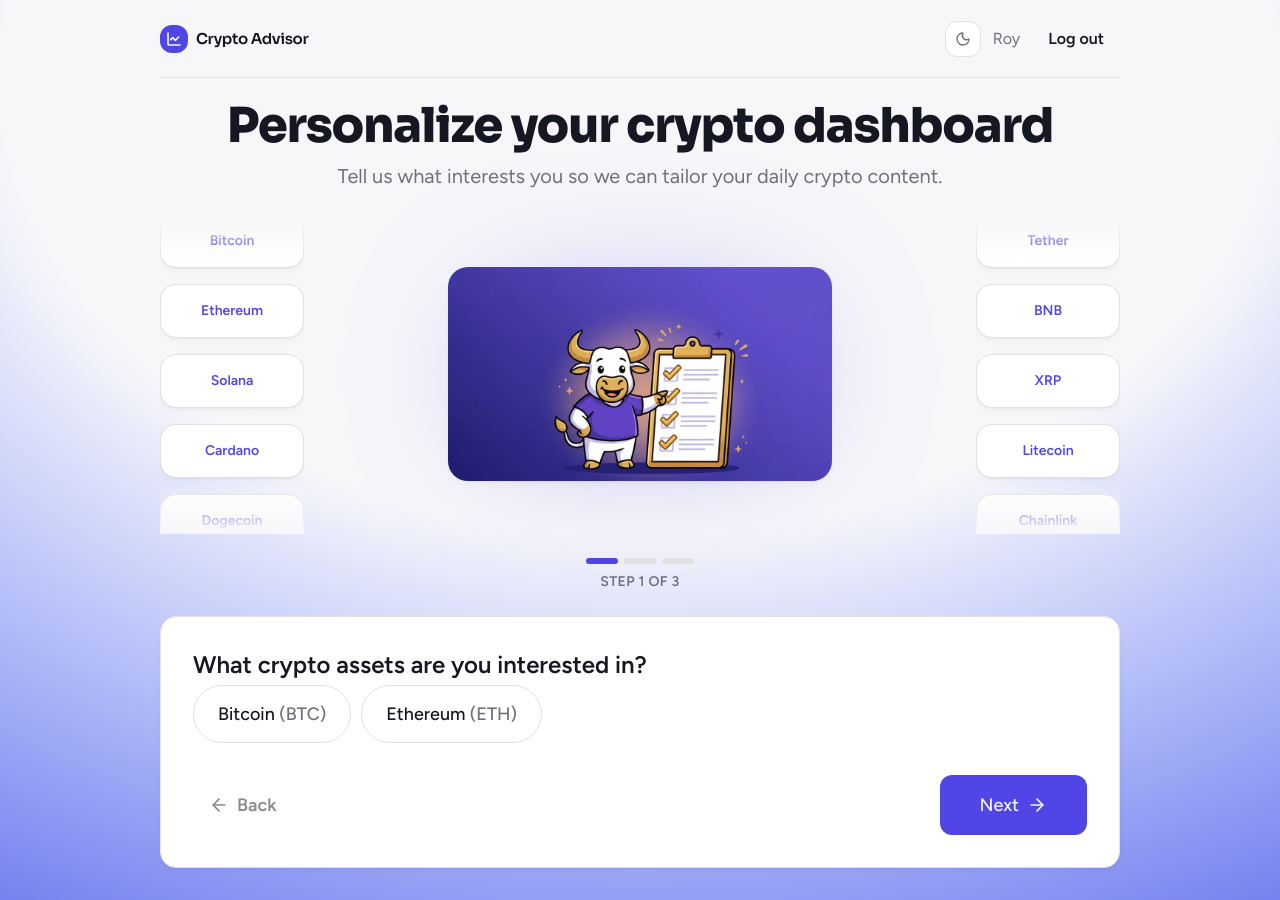
OnboardingPage › blocks advancing past step 1 with no asset selected
The image size is (1280, 900).
(page scrolled)
Step 1. Click the button "Next" → x=1013, y=805, box [940,775,1087,835]
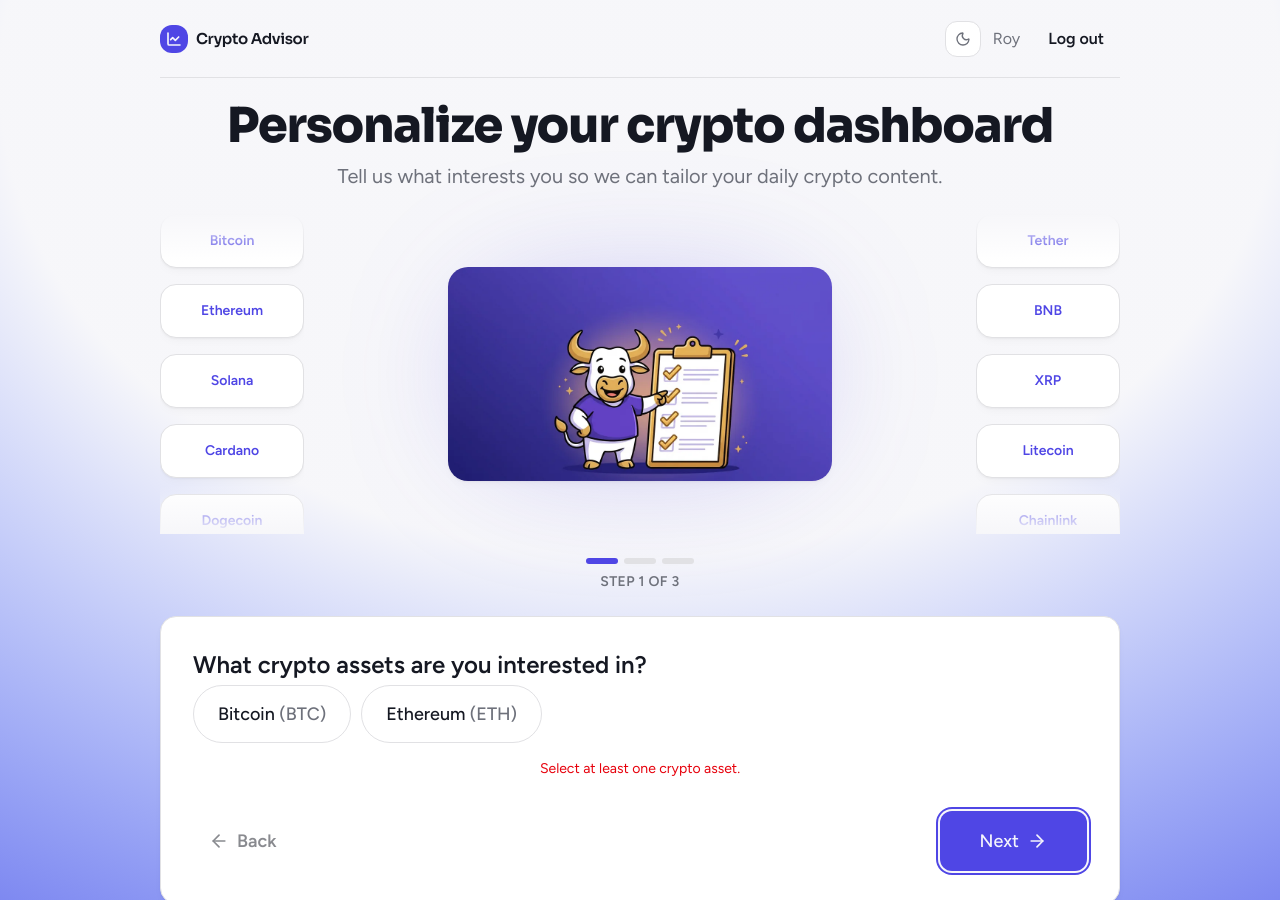
Expected: the message shows "Select at least one crypto asset", [540,760,740,777]
